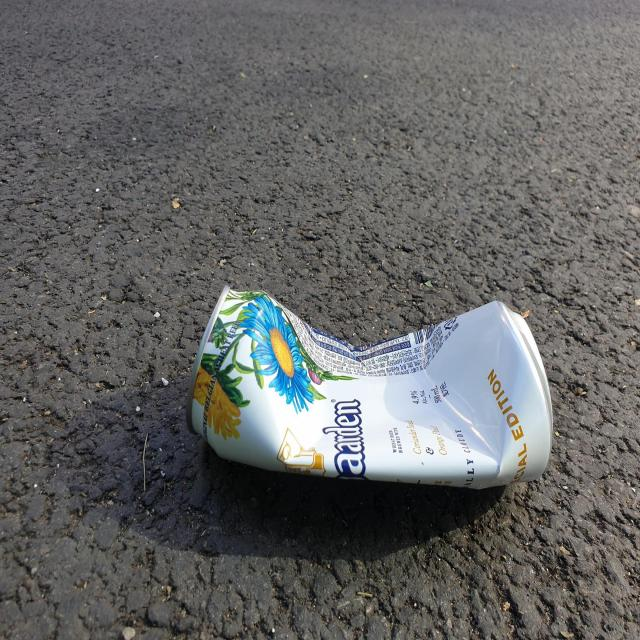can: (186, 286, 554, 489)
